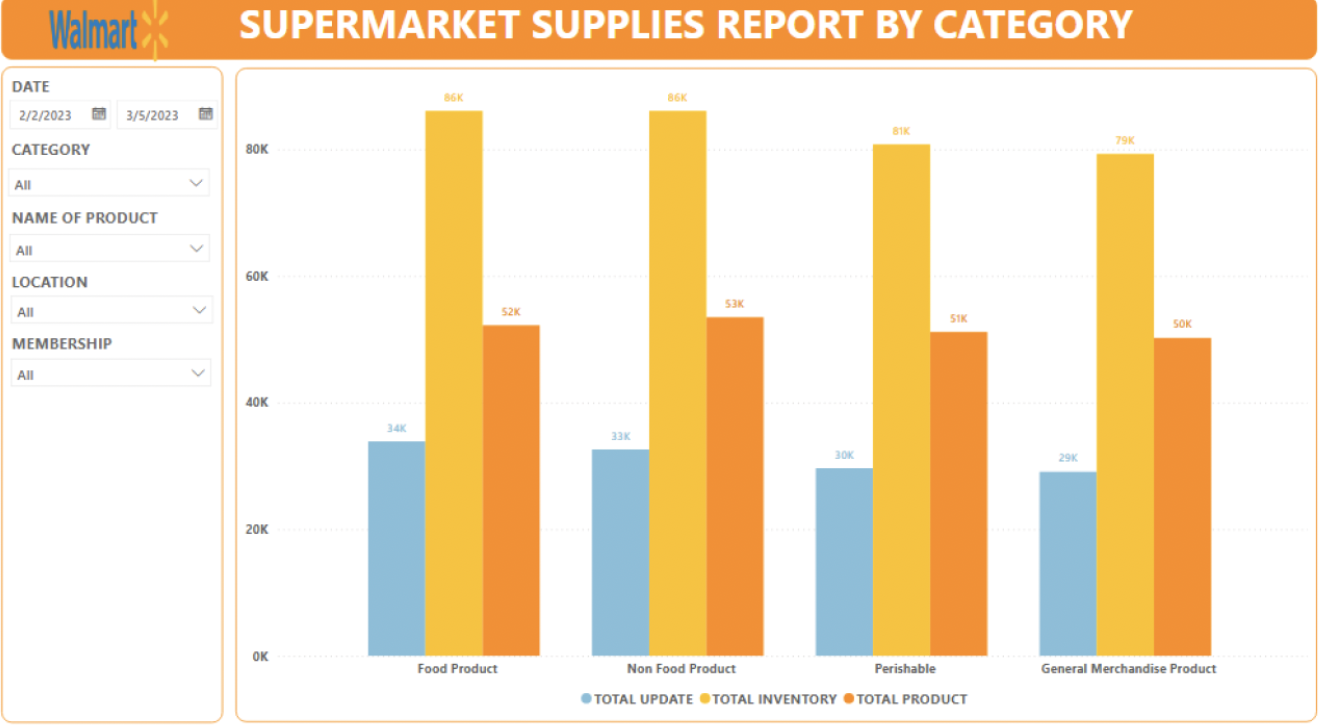

What the dashboard file says about the page in this screenshot:
{"tool":"powerbi","page":{"name":"SUPPLIES DASHBOARD","canvas":[1280,720],"ordinal":1},"visuals":[{"type":"clusteredColumnChart","fields":{"Y":["Sum(Persediaan.Update )","Sum(Persediaan.Inventory)","Sum(Persediaan.Total Product)"],"Category":["Master (Filled).Category"]},"box":[231.2,79.6,1030.4,623.2],"z":0},{"type":"textbox","box":[7.6,10.2,1253.2,61.2],"z":1000},{"type":"image","box":[1.5,6.1,217.4,72],"z":2000},{"type":"textbox","box":[7.7,78.1,211.3,624.7],"z":3000},{"type":"slicer","fields":{"Values":["Master (Filled).Input Date"]},"box":[7.7,104.1,211.3,41.3],"z":4000},{"type":"textbox","box":[16.6,85.4,72.7,29.3],"z":5000},{"type":"slicer","fields":{"Values":["Master (Filled).Category"]},"box":[10.7,166.9,202.1,39.8],"z":6000},{"type":"textbox","box":[16.6,145.3,94.3,29.3],"z":7000},{"type":"textbox","box":[16.8,209.8,151.6,21.4],"z":8000},{"type":"slicer","fields":{"Values":["Master (Filled).Name of Product"]},"box":[12.2,231.2,202.1,39.8],"z":9000},{"type":"textbox","box":[16.8,271,93.4,29.1],"z":10000},{"type":"slicer","fields":{"Values":["Master (Filled).Domicile"]},"box":[11.5,290.7,202.7,39.5],"z":11000},{"type":"textbox","box":[16.8,330.7,121,29.1],"z":12000},{"type":"slicer","fields":{"Values":["Master (Filled).Barcode"]},"box":[11.5,350.6,201.4,40.8],"z":13000},{"type":"slicer","fields":{"Values":["Master (Filled).Category"]},"box":[9.2,170,202.1,39.8],"z":14000},{"type":"slicer","fields":{"Values":["Master (Filled).Name of Product"]},"box":[9.8,232.5,201.3,39.1],"z":15000}]}

Visuals, with their boxes in screenshot pixels (x1, y1, x2, y2), scaled from the page's 1280x720 canvas onto the 1320x728 screenshot:
clusteredColumnChart - Sum(Persediaan.Update ) x Sum(Persediaan.Inventory): bbox(238, 80, 1301, 711)
textbox: bbox(8, 10, 1300, 72)
image: bbox(2, 6, 226, 79)
textbox: bbox(8, 79, 226, 711)
slicer - Master (Filled).Input Date: bbox(8, 105, 226, 147)
textbox: bbox(17, 86, 92, 116)
slicer - Master (Filled).Category: bbox(11, 169, 219, 209)
textbox: bbox(17, 147, 114, 177)
textbox: bbox(17, 212, 174, 234)
slicer - Master (Filled).Name of Product: bbox(13, 234, 221, 274)
textbox: bbox(17, 274, 114, 303)
slicer - Master (Filled).Domicile: bbox(12, 294, 221, 334)
textbox: bbox(17, 334, 142, 364)
slicer - Master (Filled).Barcode: bbox(12, 354, 220, 396)
slicer - Master (Filled).Category: bbox(9, 172, 218, 212)
slicer - Master (Filled).Name of Product: bbox(10, 235, 218, 275)
